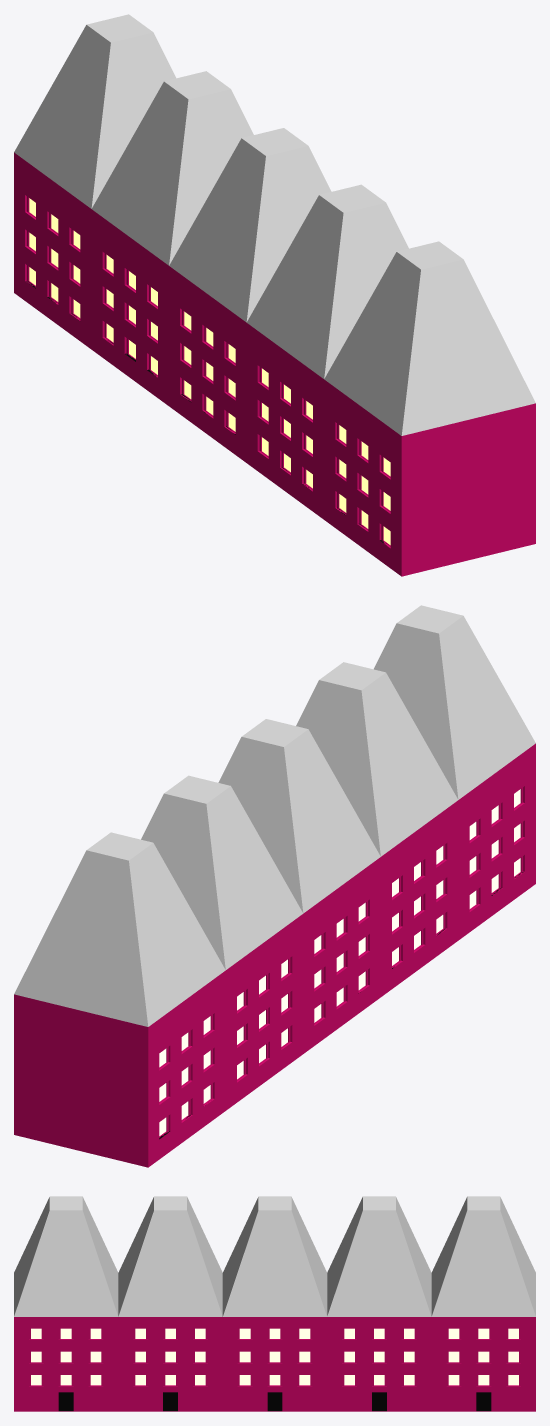
The model's file is 3_storey_house_3(5).fbx.
3 renders of one model, top to bottom at view 1: azimuth 30°, elevation 25°; view 2: azimuth 150°, elevation 25°; view 3: azimuth 270°, elevation 25°, orthographic. The views are drawn at different scales.
Parts seen in each view (by area): view 1: Cube; view 2: Cube; view 3: Cube.
Part boxes in pixels (x1=…): Cube: x1=14, y1=14, x2=535, y2=576; Cube: x1=14, y1=605, x2=535, y2=1167; Cube: x1=14, y1=1196, x2=535, y2=1411.
Bounding box in the file's own units: 28 × 55.07 × 140.
